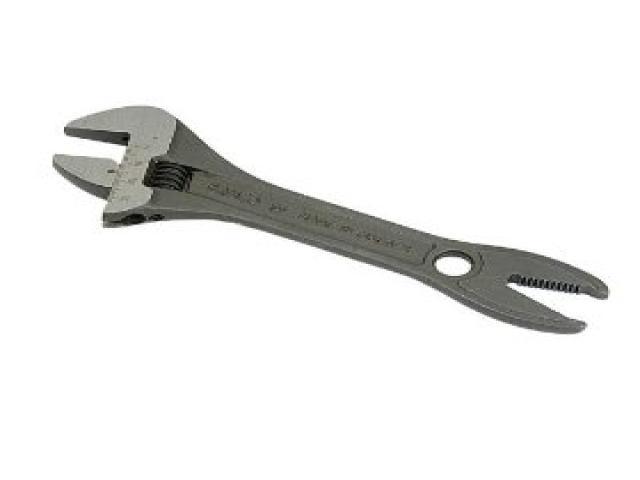Adjustable spanner: (52, 108, 606, 332)
